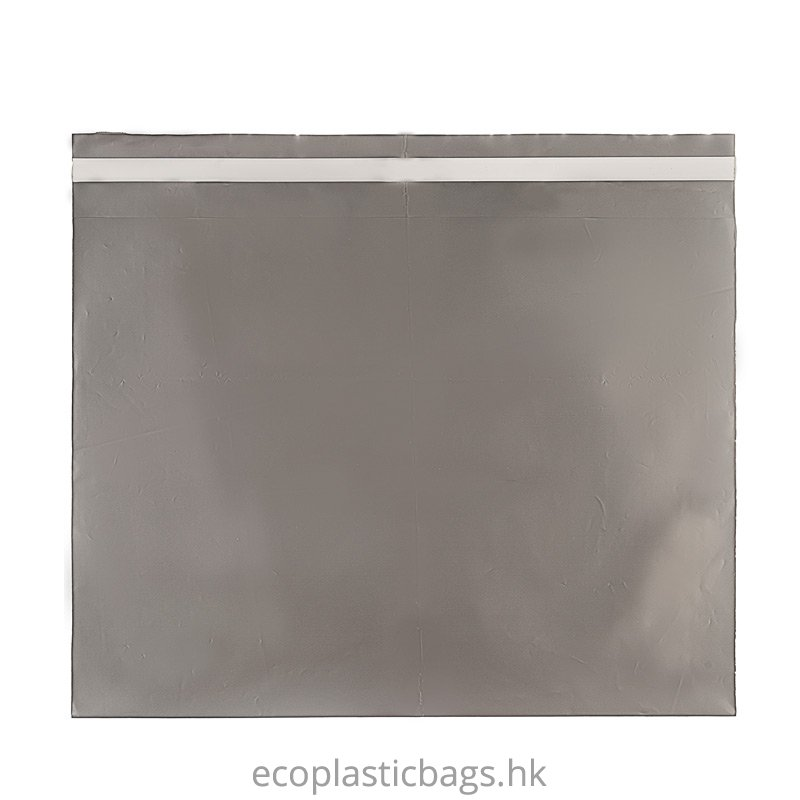Parcel: (71, 134, 735, 718)
